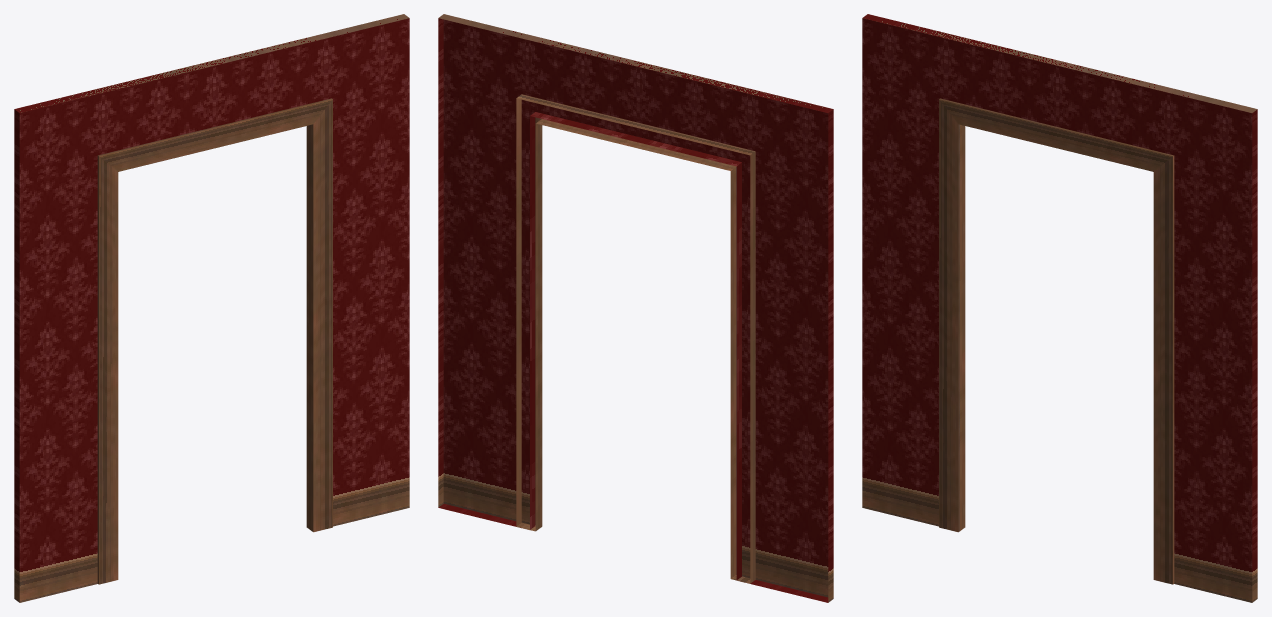
File: doorway4.glb
3 renders of one model, left to right at view 1: azimuth 30°, elevation 25°; view 2: azimuth 150°, elevation 25°; view 3: azimuth 330°, elevation 25°, orthographic.
Parts seen in each view (by area): view 1: doorway4; view 2: doorway4; view 3: doorway4.
Boxes of the visible parts, x1,y1,x2,y2 form: doorway4: (14,14,409,602); doorway4: (438,14,833,602); doorway4: (862,14,1257,602).
Bounding box in the file's own units: 2 × 2.4 × 0.06.
Materials: 1 (1 with a texture image).
